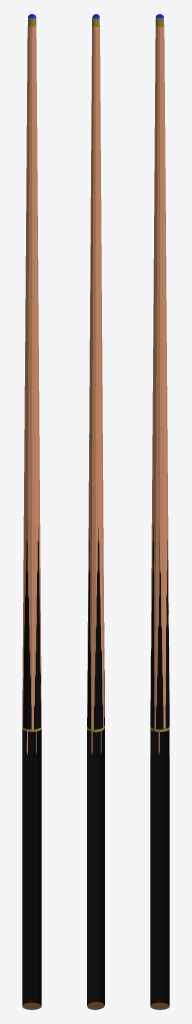
Rendered from Key.obj.
3 views of the same model, side by side, from view 1: azimuth 90°, elevation 25°; view 2: azimuth 150°, elevation 25°; view 3: azimuth 270°, elevation 25° (orthographic).
Parts seen in each view (by area): view 1: Cue; view 2: Cue; view 3: Cue.
Part boxes in pixels (bbox=[...]): Cue: bbox=[22, 14, 41, 1009]; Cue: bbox=[87, 14, 104, 1009]; Cue: bbox=[150, 14, 169, 1009].
Bounding box in the file's own units: 0.0221 × 1.4 × 0.0251.
